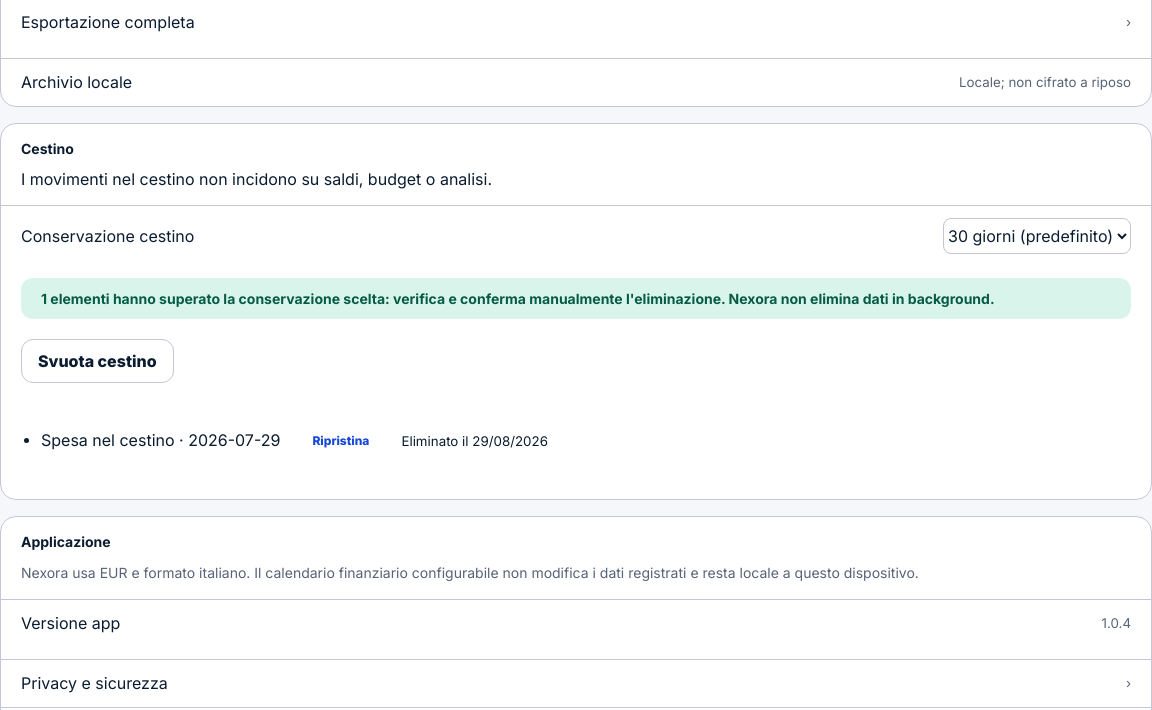
Test: SettingsPage destructive flows › svuota il cestino solo dopo una conferma esplicita
(page scrolled)
Click the button "Svuota cestino" at (97, 360), box [21,338,174,382]
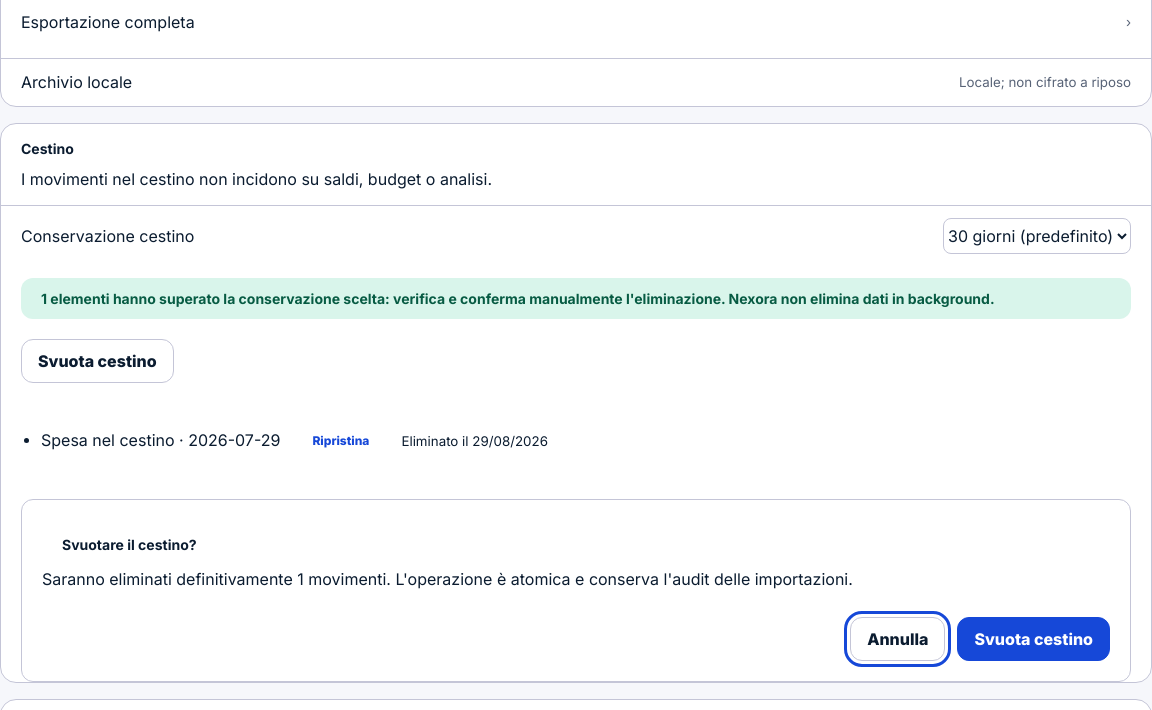
Click the 2nd button "Svuota cestino" at (1034, 638), box [957,616,1110,660]
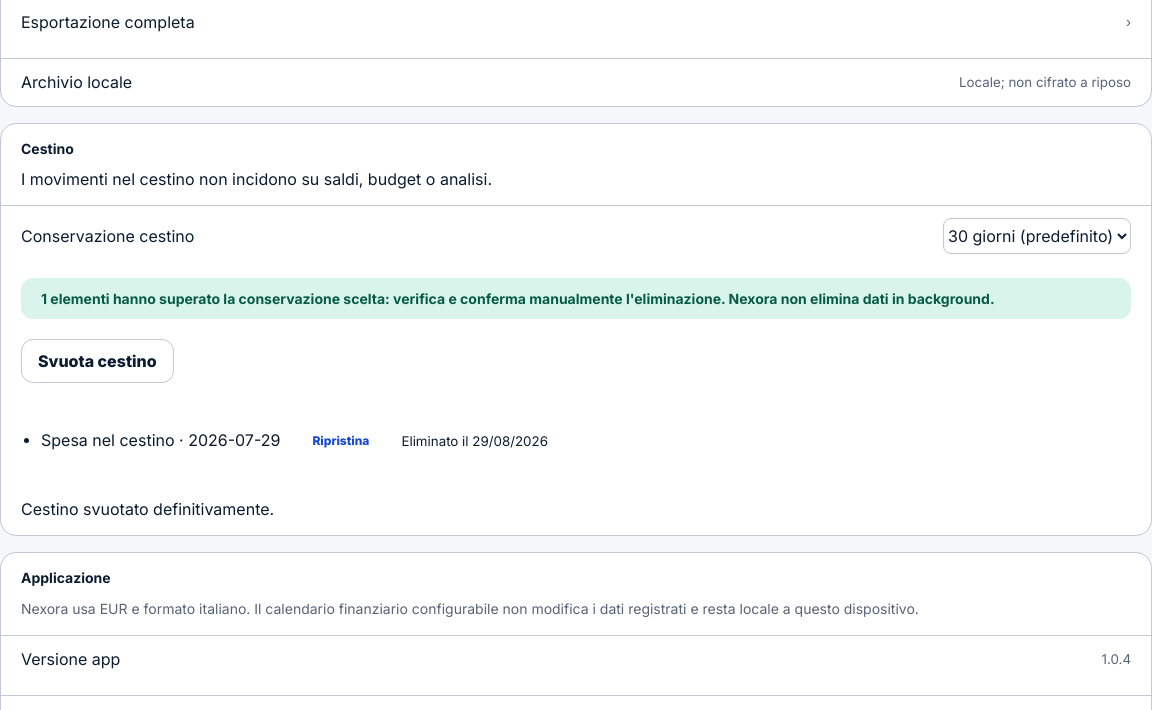
Now the message shows "Cestino svuotato", box [21,498,274,518]
